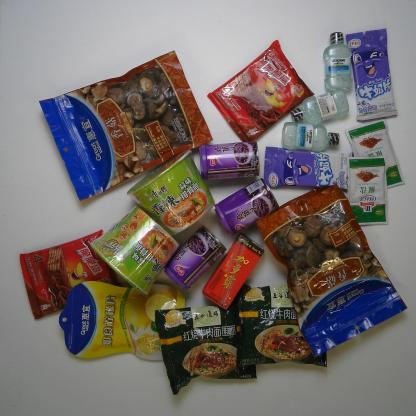Candy: (345, 27, 398, 123), (263, 146, 354, 191)
Canned Food: (163, 224, 227, 289), (213, 178, 280, 236), (198, 140, 260, 181)
Dessert: (206, 39, 315, 142), (18, 229, 123, 320)
Dried Food: (255, 184, 408, 358), (38, 50, 213, 202)
Dried Fruit: (57, 280, 186, 362)
Drink: (202, 231, 265, 311)
Instant Noodles: (154, 303, 257, 395), (89, 206, 180, 296), (125, 148, 216, 237), (233, 283, 328, 368)
Personal Hygiene: (290, 89, 350, 125), (323, 31, 353, 92), (281, 122, 340, 152)
Seasoner: (345, 118, 405, 188), (346, 156, 389, 226)
